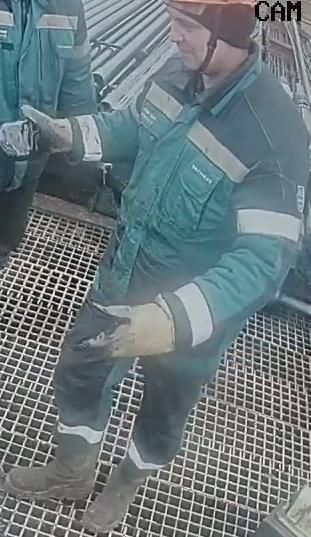gloves: (70, 299, 195, 365), (0, 104, 89, 165)
helmet: (161, 0, 256, 34)
vest: (119, 55, 305, 300), (1, 0, 86, 111)
